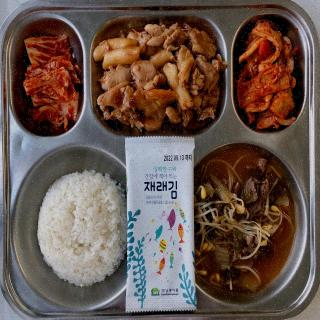Nasi: (37, 166, 131, 292)
